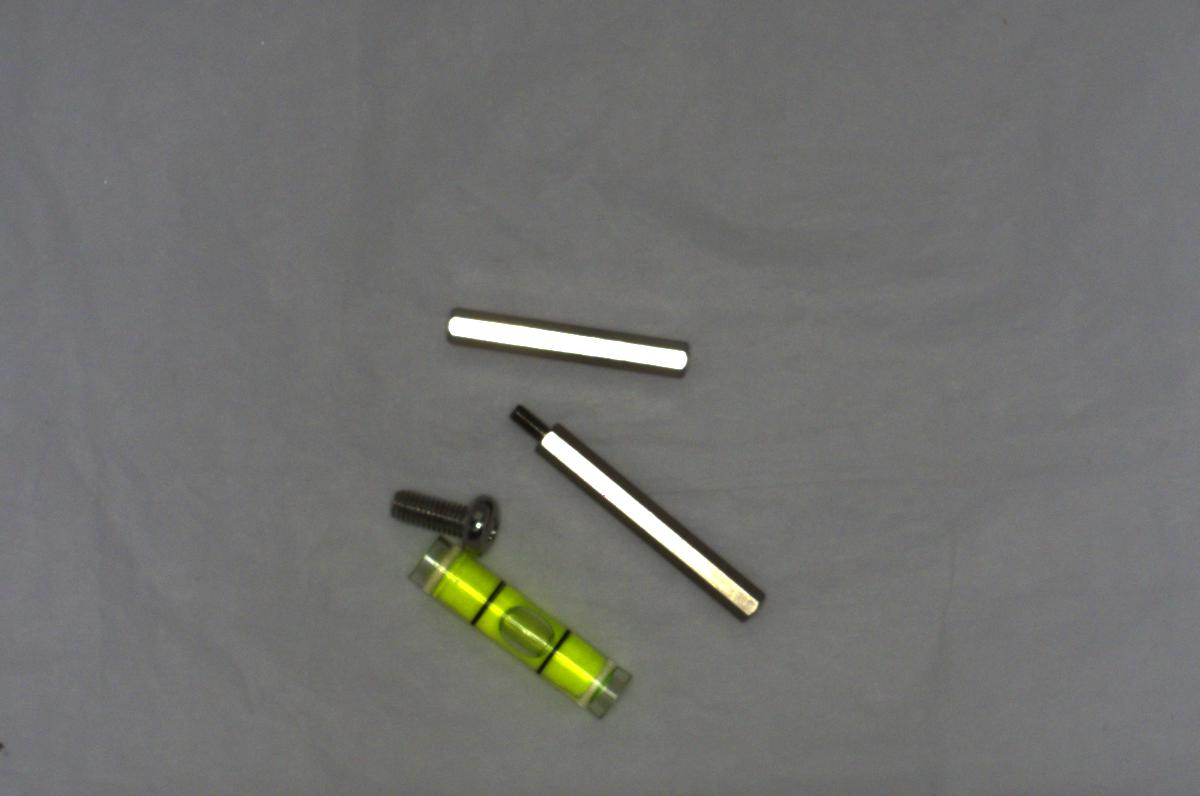Double hexagonal column: (438, 300, 699, 388)
Hexagonal steel column: (501, 398, 767, 621)
Horizontal bubble: (410, 538, 634, 716)
Round head screw: (381, 478, 506, 555)
